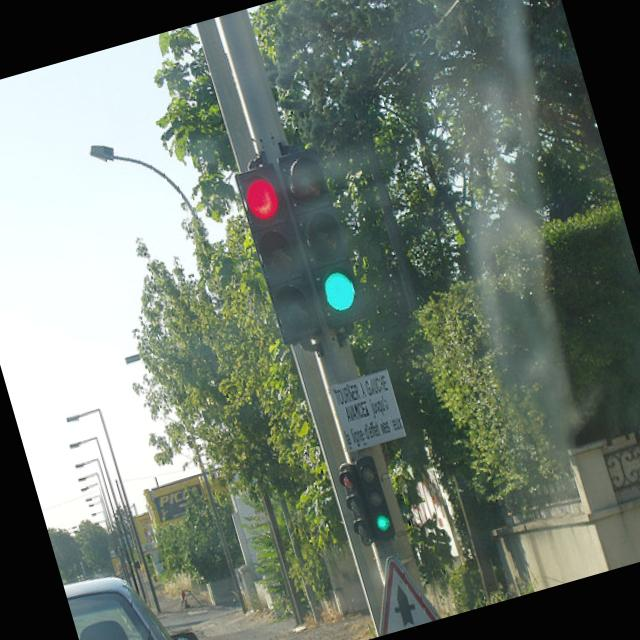Vehicle: (62, 548, 217, 640)
